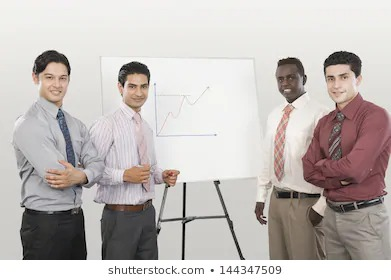F_shirt: (10, 94, 108, 208), (300, 91, 391, 201), (246, 92, 334, 193), (92, 97, 167, 204)
F_tie: (130, 113, 153, 194), (49, 110, 78, 169), (273, 100, 291, 182), (330, 110, 346, 158)
